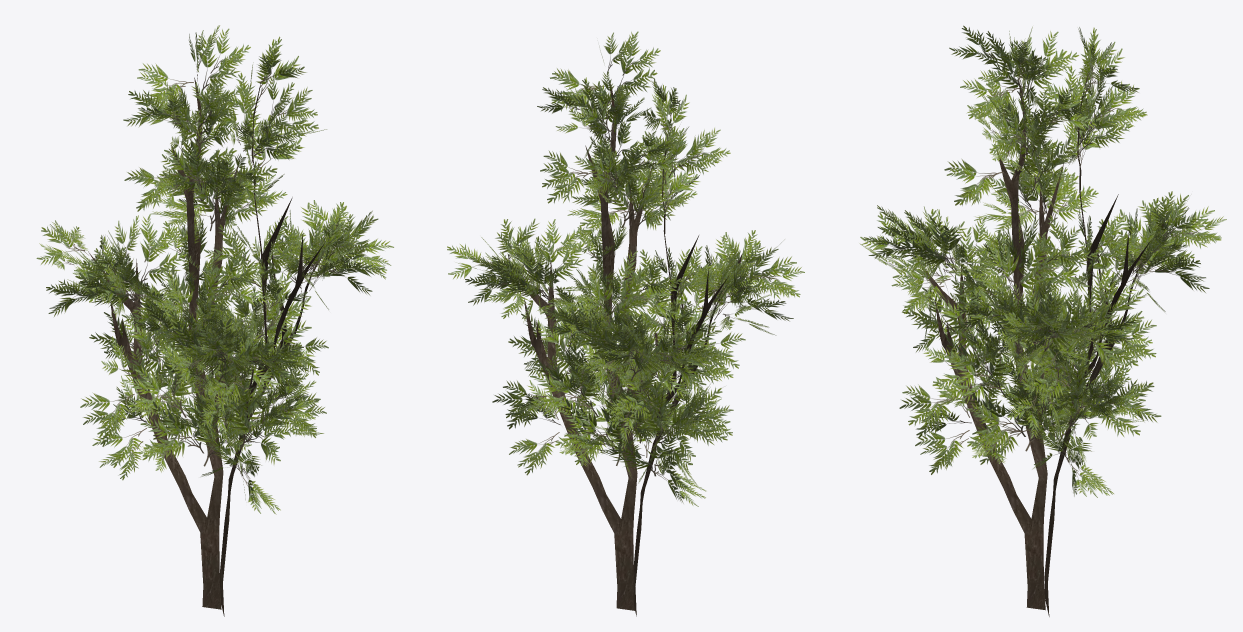
Rendered from tree-3.glb.
3 views of the same model, side by side, from view 1: azimuth 30°, elevation 25°; view 2: azimuth 150°, elevation 25°; view 3: azimuth 270°, elevation 25° (orthographic). The views are drawn at different scales.
Parts seen in each view (by area): view 1: leaves, bark; view 2: leaves, bark; view 3: leaves, bark.
Part boxes in pixels (bbox=[...]): leaves: bbox=[36, 25, 393, 514]; bark: bbox=[88, 77, 339, 616]; leaves: bbox=[447, 31, 804, 506]; bark: bbox=[502, 80, 742, 616]; leaves: bbox=[859, 25, 1226, 497]; bark: bbox=[913, 76, 1165, 616].
Bounding box in the file's own units: 0.6066 × 1 × 0.5847.
2 materials, 2 textured.
